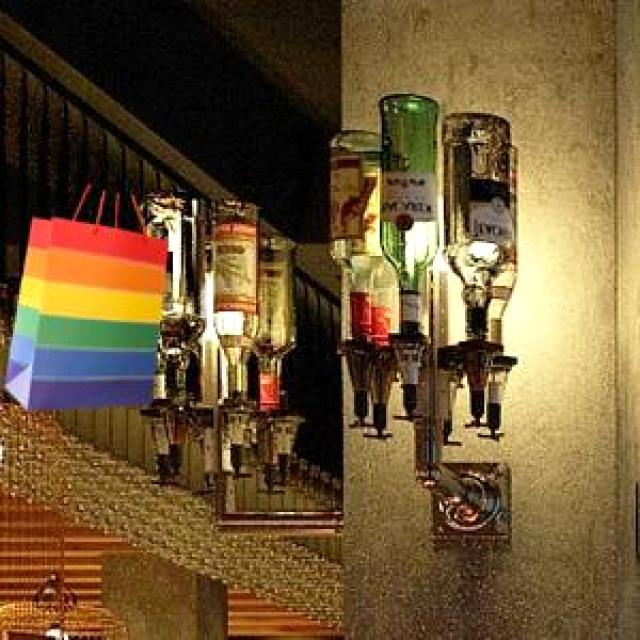Paper_Bag: (2, 215, 164, 406)
